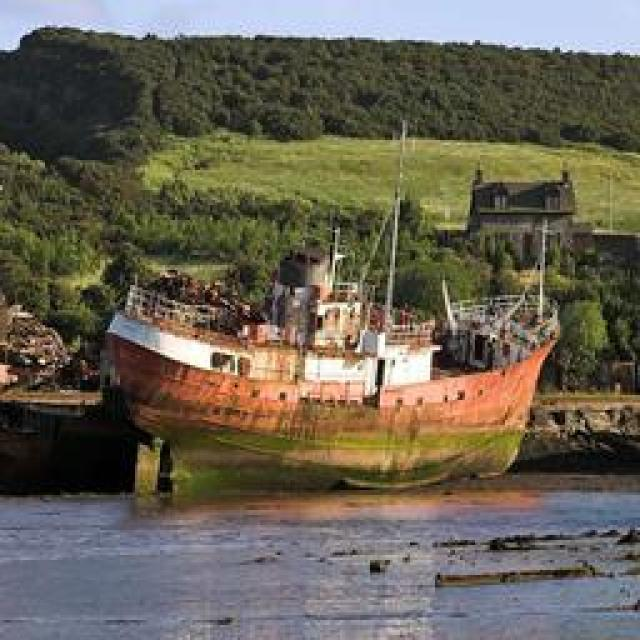ship2: (108, 130, 562, 500)
